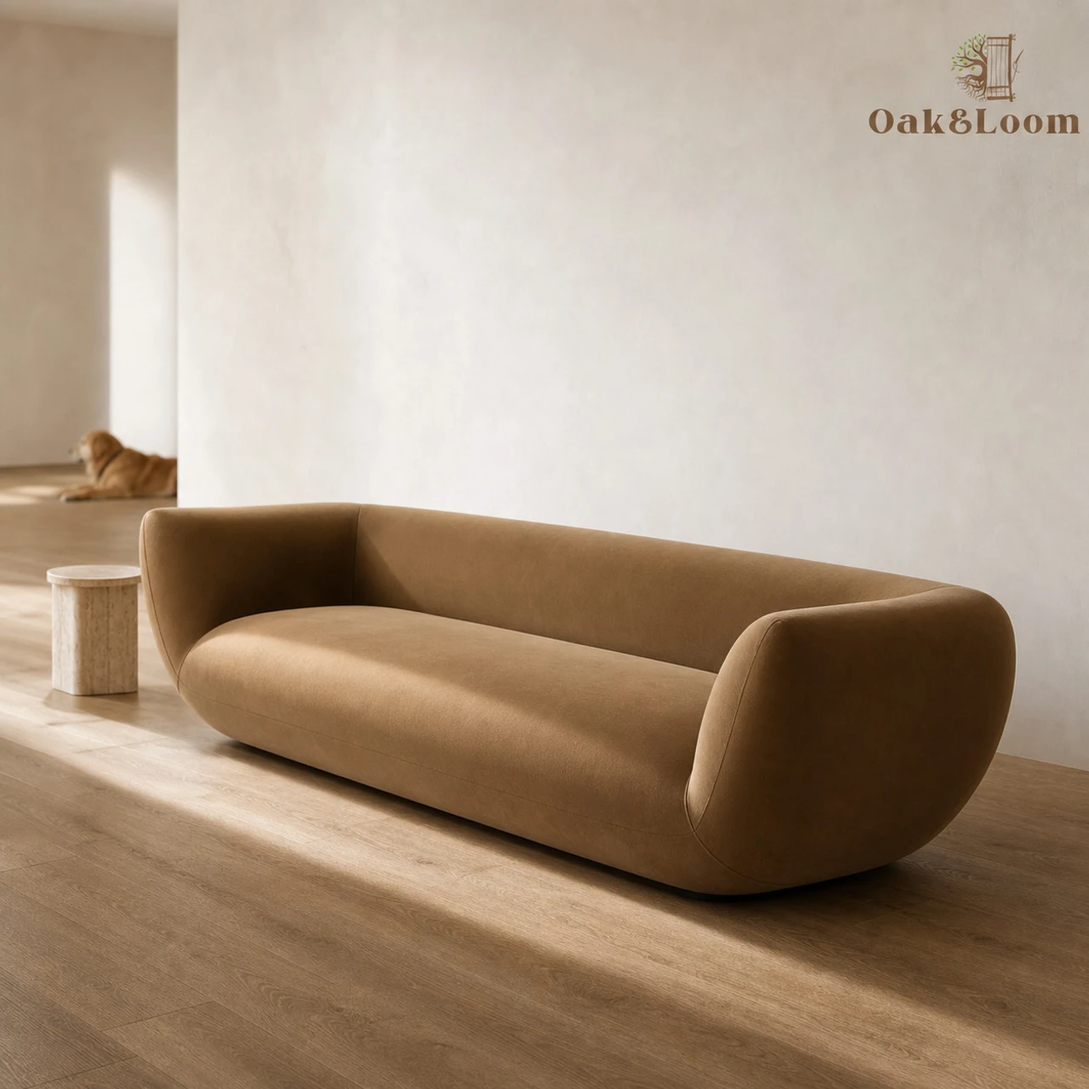3seatersofa: (140, 504, 1013, 895)
backrest: (354, 505, 938, 670)
leftarmrest: (689, 587, 1014, 887)
rightarmrest: (140, 505, 356, 681)
seat: (180, 607, 742, 892)
